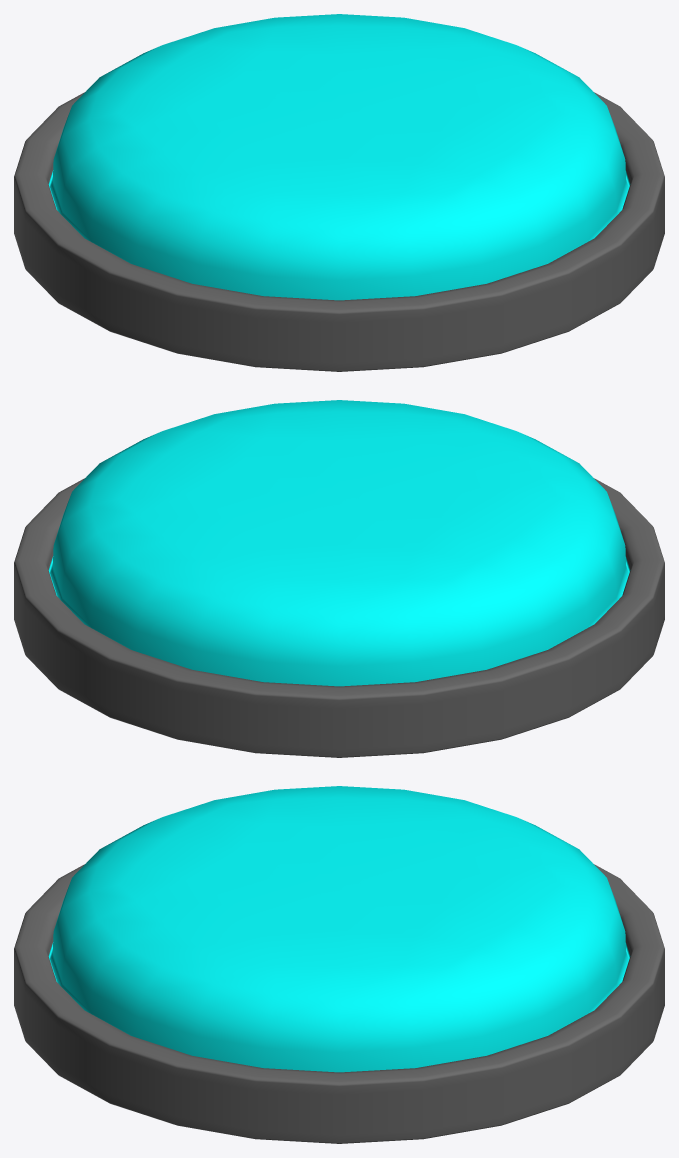
File: Button High.fbx
3 views of the same model, one above another, from view 1: azimuth 30°, elevation 25°; view 2: azimuth 150°, elevation 25°; view 3: azimuth 270°, elevation 25° (orthographic).
Parts seen in each view (by area): view 1: pCylinder1; view 2: pCylinder1; view 3: pCylinder1.
Boxes of the visible parts, bbox=[...] form: pCylinder1: bbox=[14, 14, 664, 371]; pCylinder1: bbox=[14, 400, 664, 757]; pCylinder1: bbox=[14, 786, 664, 1143].
Bounding box in the file's own units: 1.93 × 0.4189 × 1.93.
